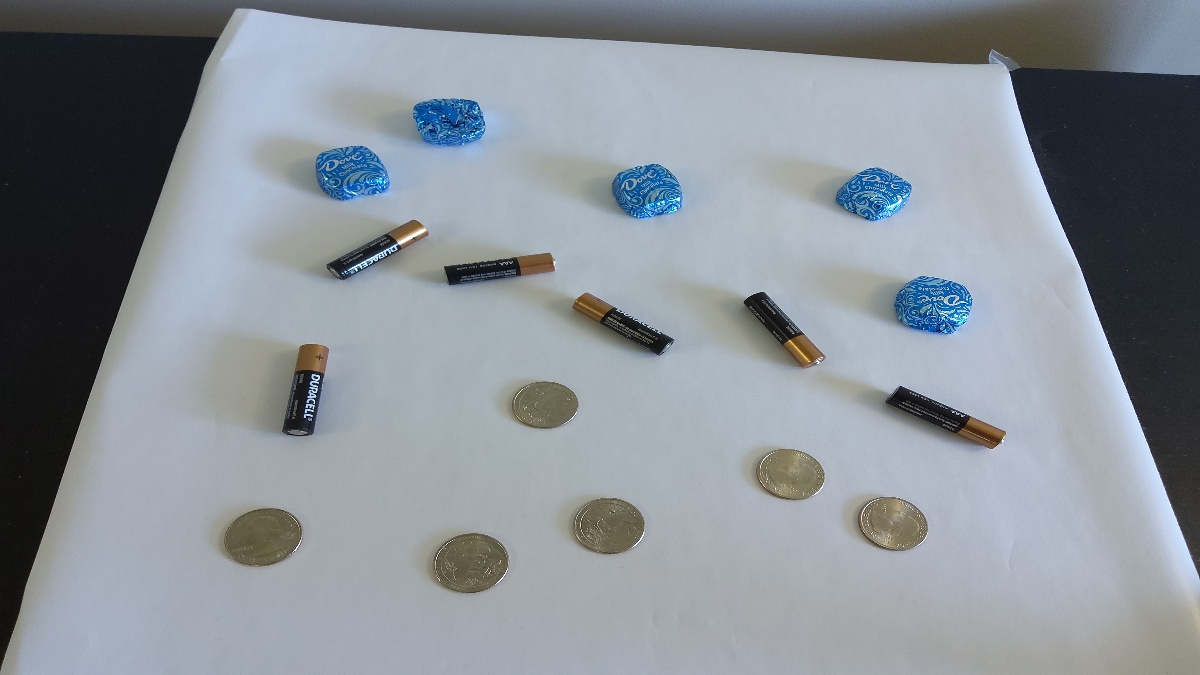battery: (883, 373, 1020, 454), (730, 279, 836, 383), (570, 280, 678, 362), (315, 217, 434, 283), (282, 335, 344, 450), (440, 242, 564, 294)
chocolate_blue: (831, 161, 924, 231), (890, 270, 980, 339), (608, 158, 690, 232), (412, 87, 494, 158), (308, 142, 392, 206)
coin_quarter: (427, 516, 518, 596), (224, 499, 307, 575), (851, 488, 938, 556), (572, 490, 650, 562), (507, 371, 590, 432), (753, 445, 828, 505)
